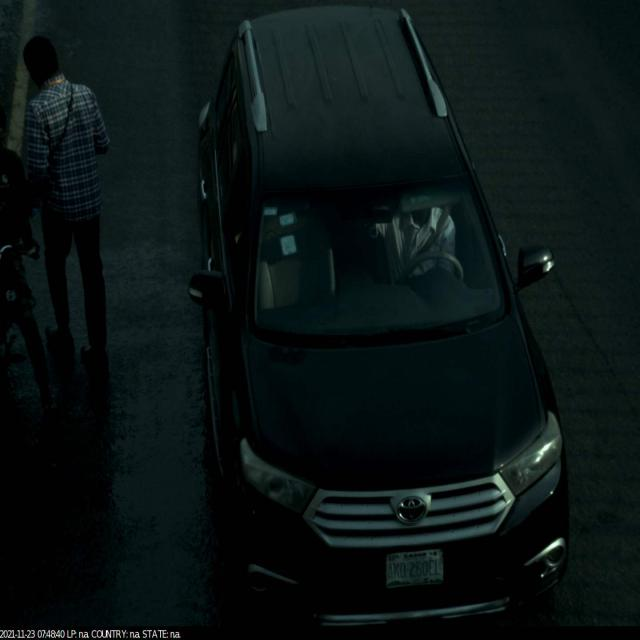windshield: (243, 167, 524, 360)
